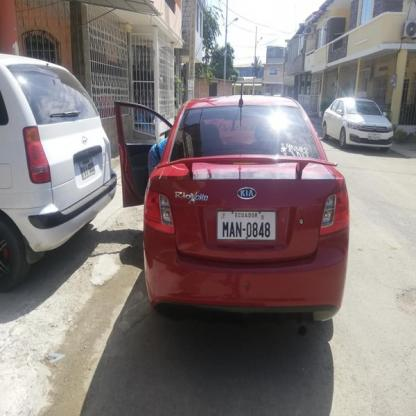Placa: (213, 210, 278, 242)
